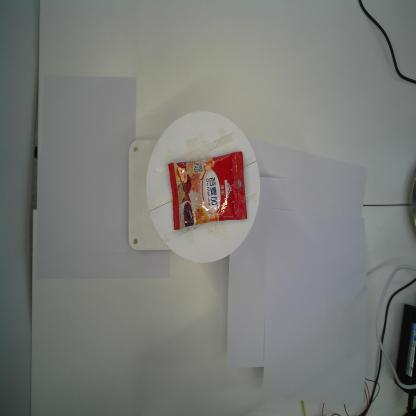Instant Drink: (167, 150, 248, 231)
